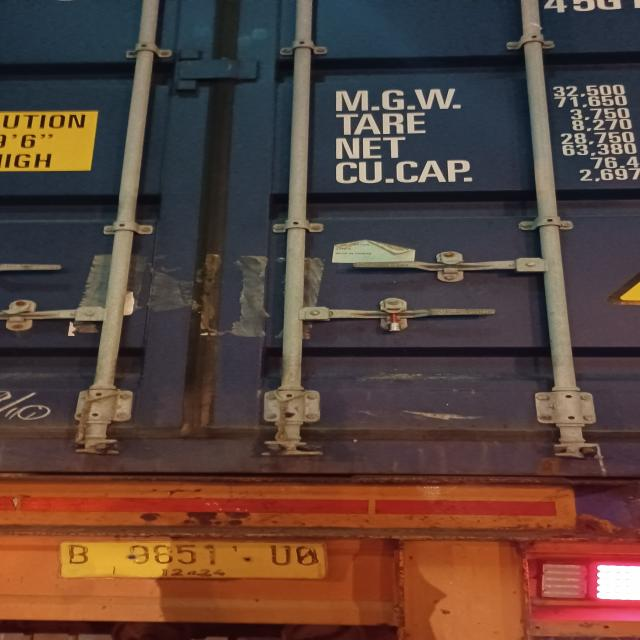seal: (383, 298, 406, 336)
